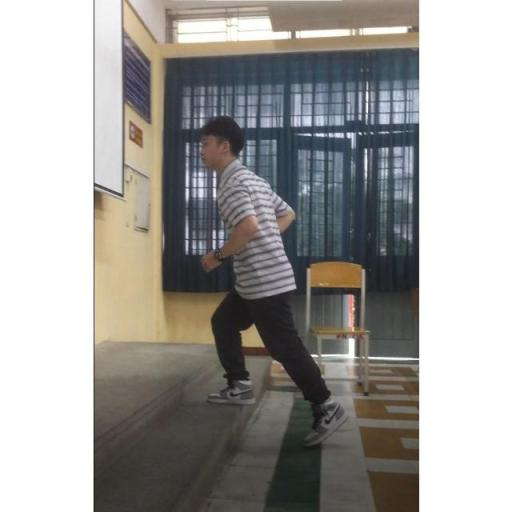Running: (185, 109, 352, 449)
